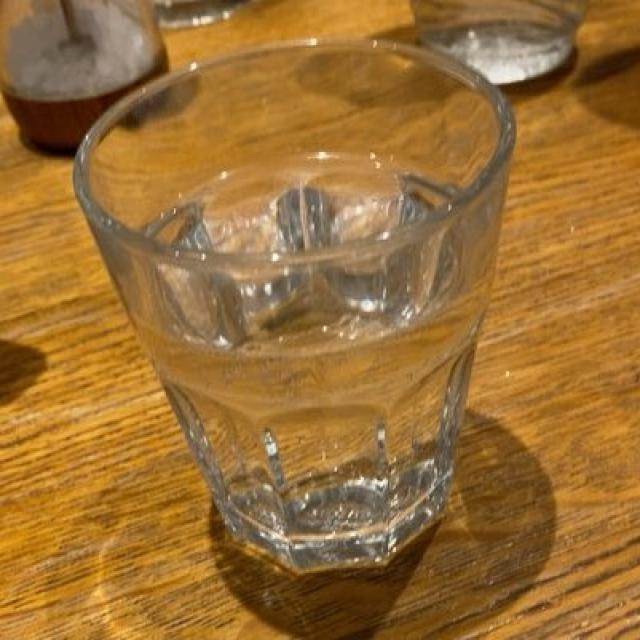water: (109, 164, 467, 549)
